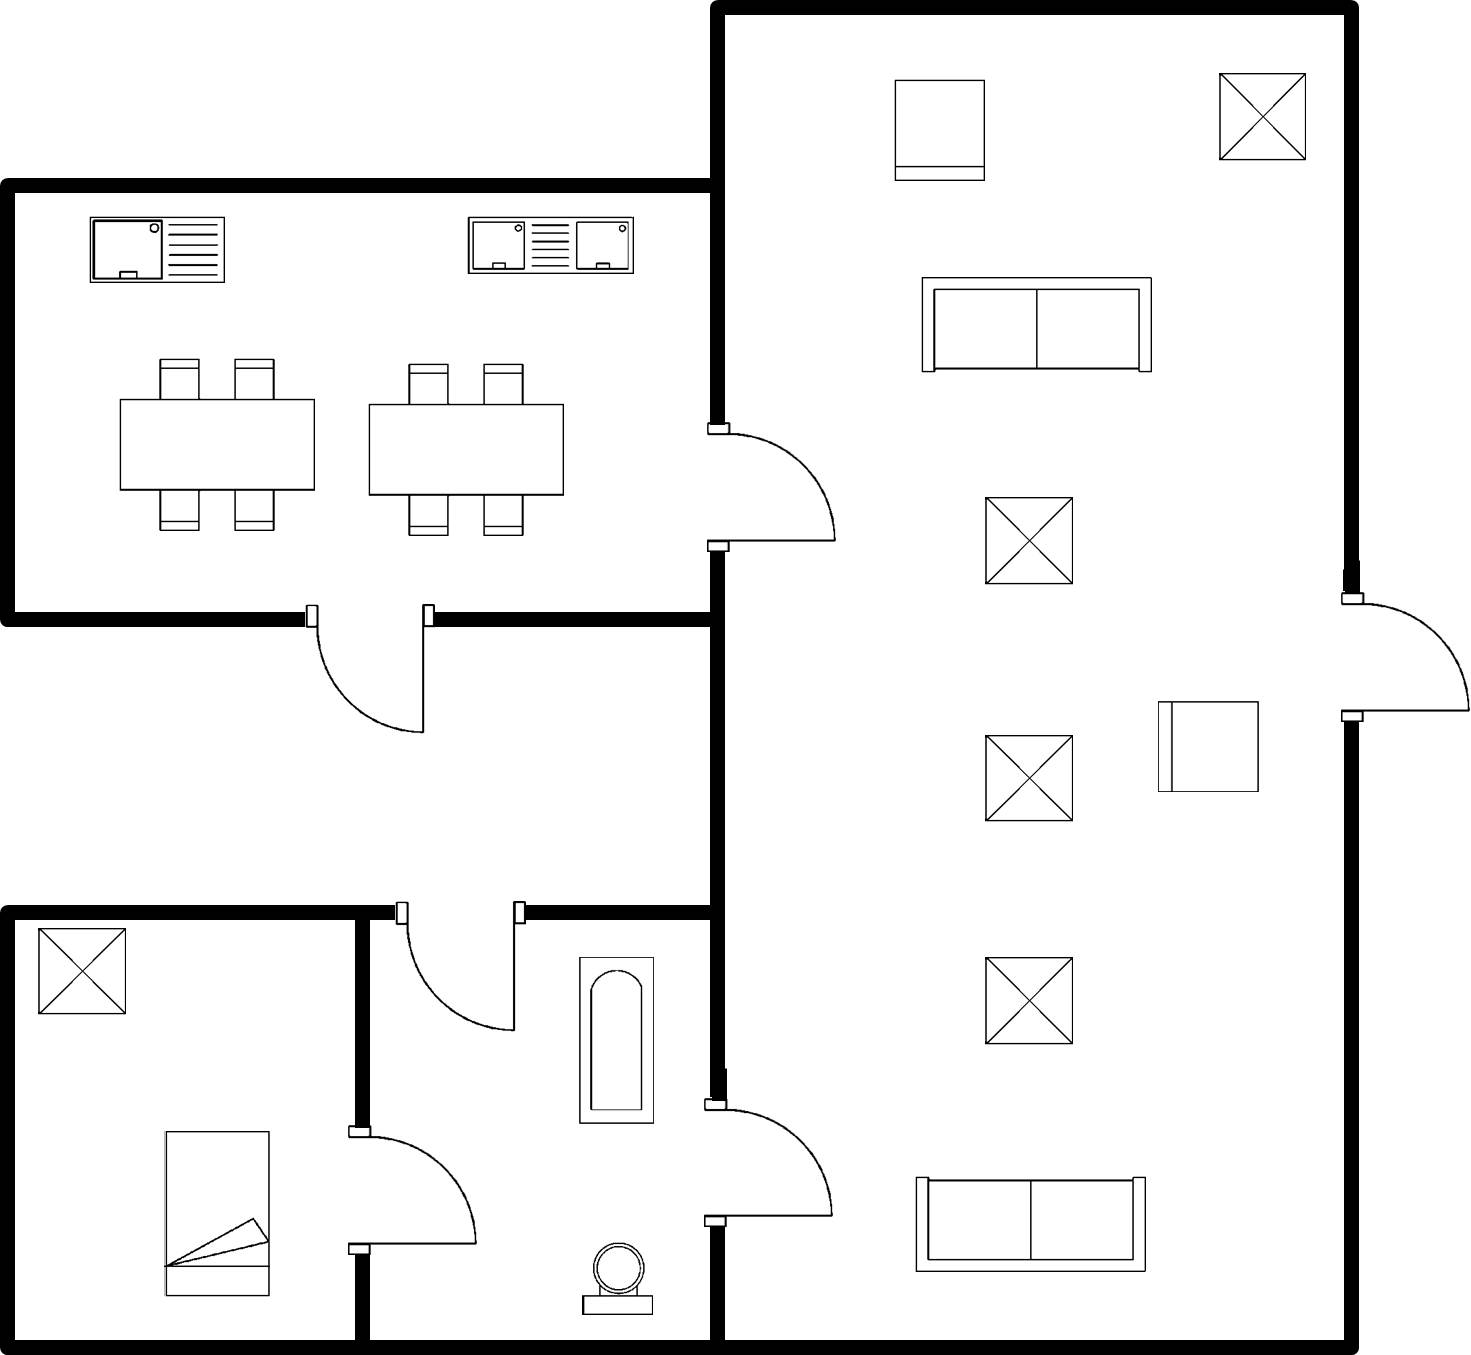bed: (154, 1119, 281, 1310)
coffee_table: (975, 489, 1087, 601), (1206, 62, 1314, 173), (972, 947, 1081, 1055), (975, 726, 1084, 830), (30, 922, 138, 1024)
dining_table: (105, 348, 329, 541), (362, 353, 577, 551)
large_sink: (573, 1234, 666, 1326)
large_sofa: (897, 1165, 1156, 1286), (912, 265, 1158, 386)
sink: (83, 207, 237, 293)
small_sofa: (1147, 693, 1267, 806), (884, 73, 996, 193)
tub: (566, 947, 664, 1134)
twin_sink: (455, 207, 641, 286)
